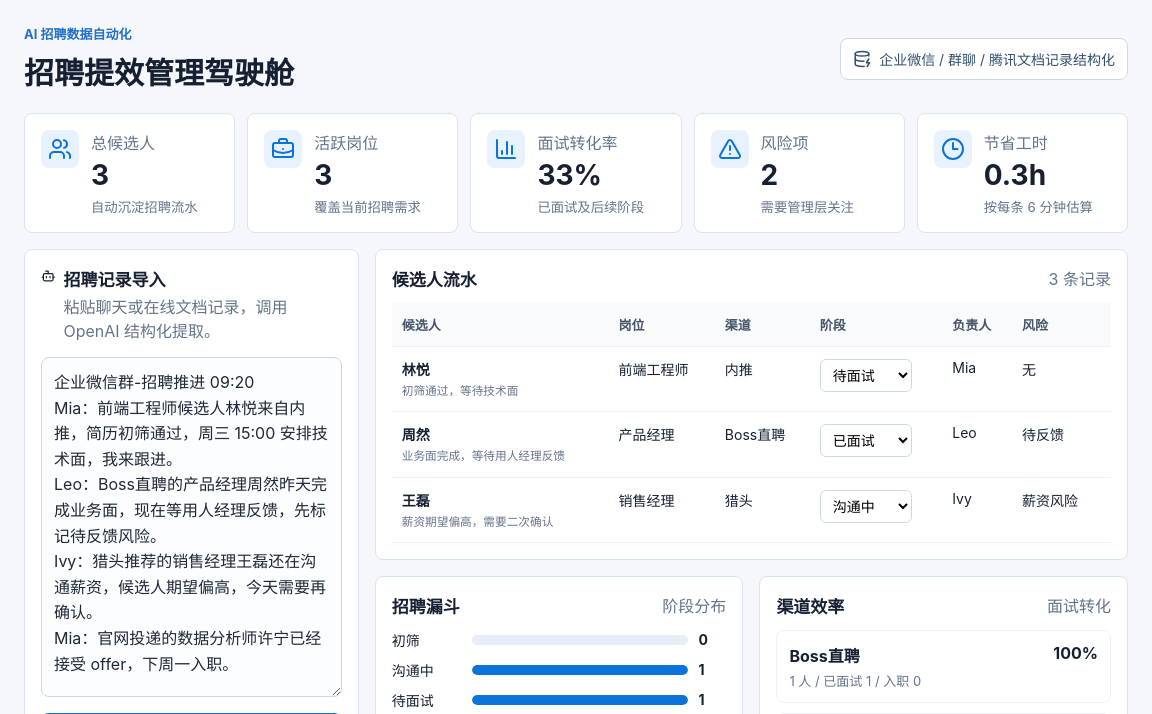
Test: App › updates metrics when a candidate stage changes
This screenshot has width=1152, height=714.
Check: the text with test id "risk-count" reads "2", box [761,158,778,192]
Select "已面试" in the dropdown named "林悦阶段". click: (866, 376)
box: [820,359,912,392]
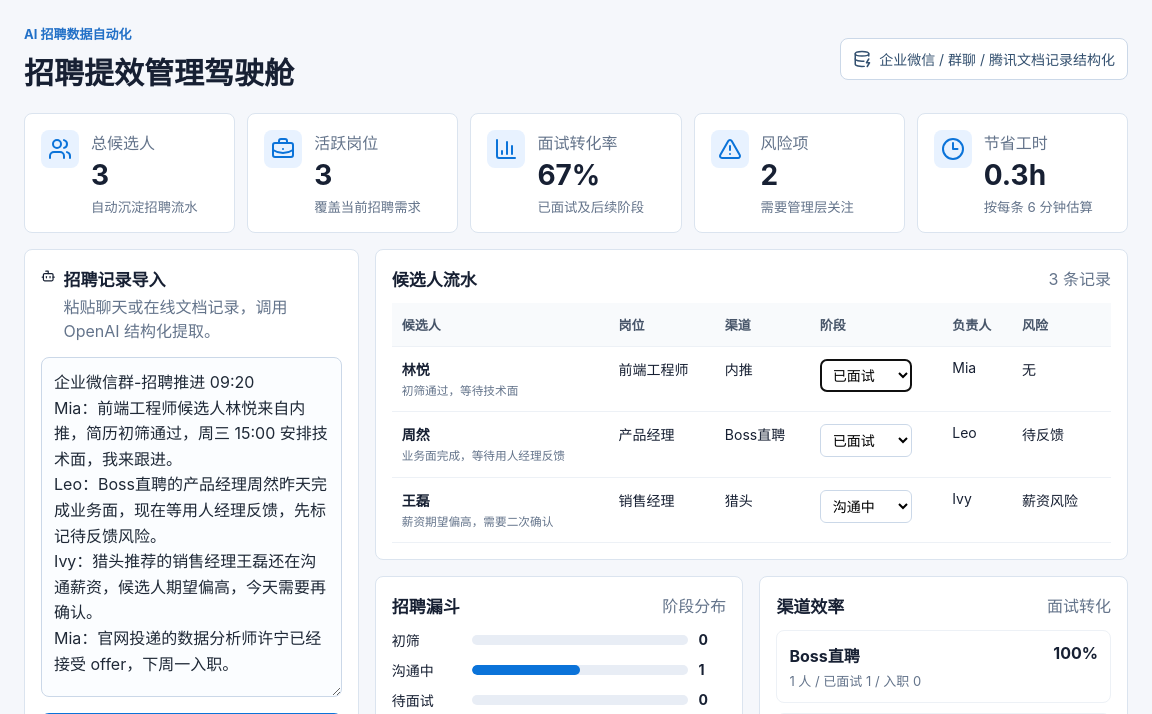
Check: the text with test id "conversion-rate" reads "67%", box [537,158,600,192]
